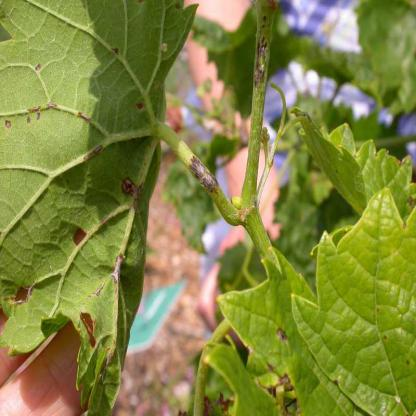grape leaf black rot: (1, 2, 181, 412), (287, 184, 415, 412)
